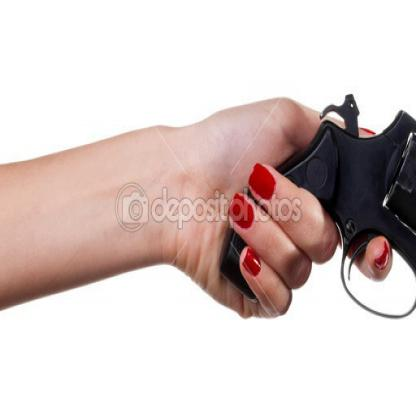gun: (219, 92, 415, 348)
